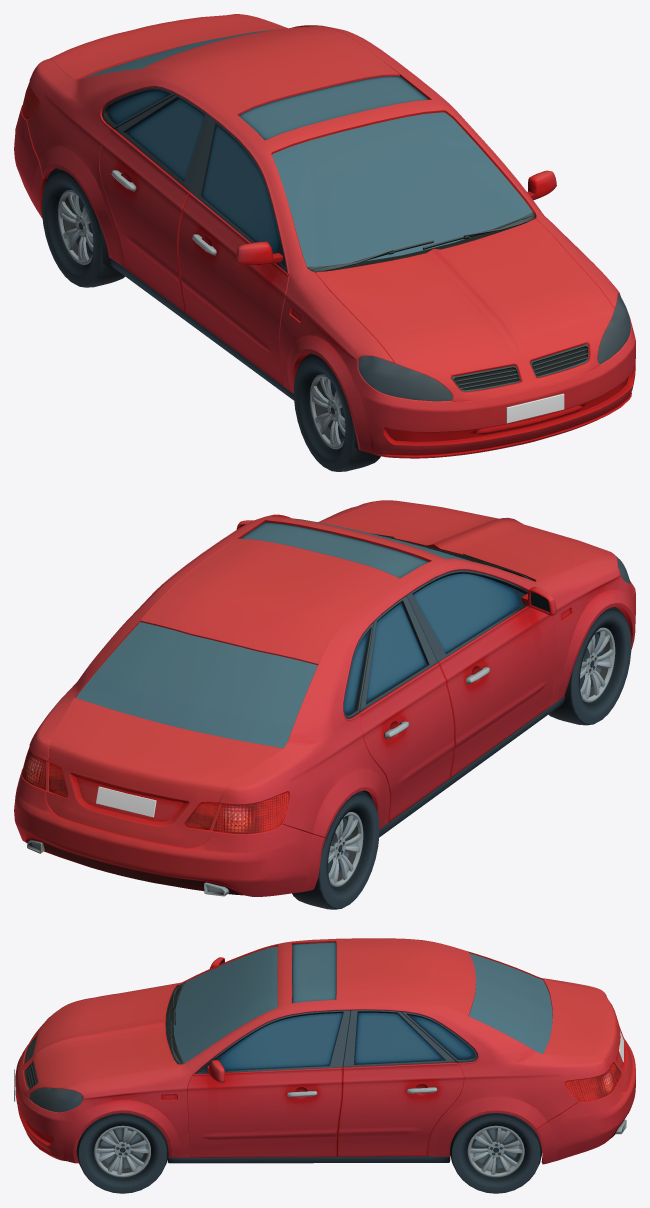
3 renders of one model, top to bottom at view 1: azimuth 30°, elevation 25°; view 2: azimuth 150°, elevation 25°; view 3: azimuth 270°, elevation 25°, orthographic. The views are drawn at different scales.
Parts seen in each view (by area): view 1: car.1; view 2: car.1; view 3: car.1.
Part boxes in pixels (left/top/right/bottom): car.1: left=14, top=14, right=635, bottom=471; car.1: left=14, top=500, right=635, bottom=909; car.1: left=14, top=938, right=635, bottom=1193.
Size of the model in its own units: 1.35 by 0.9827 by 3.08.
Materials: 2 (2 with a texture image).
